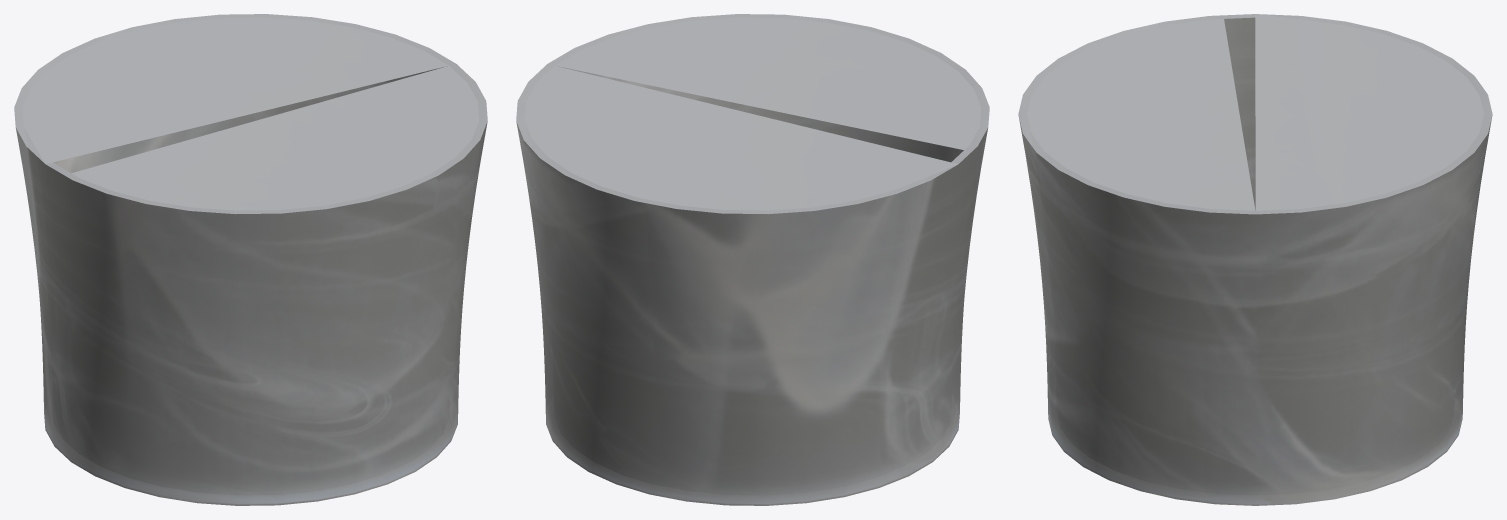
File: pot-ar.fbx
The picture shows the model from 3 angles, left to right: view 1: azimuth 30°, elevation 25°; view 2: azimuth 150°, elevation 25°; view 3: azimuth 270°, elevation 25°; orthographic projection.
Visible parts, largest first — view 1: pot; view 2: pot; view 3: pot.
Part boxes in pixels (x1,y1,x2,y2): pot: (14,14,487,505); pot: (516,14,989,505); pot: (1018,14,1492,505).
Size of the model in its own units: 11.23 by 7.94 by 11.23.
